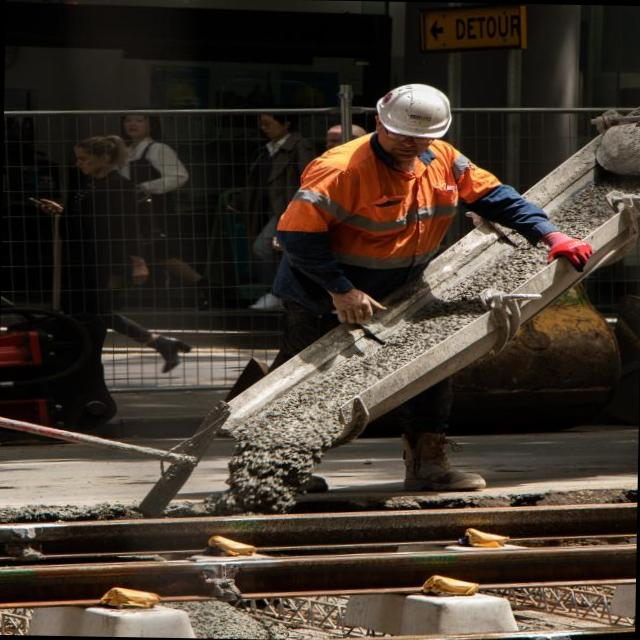Gloves: (530, 224, 619, 274)
Helmet: (352, 82, 481, 134)
